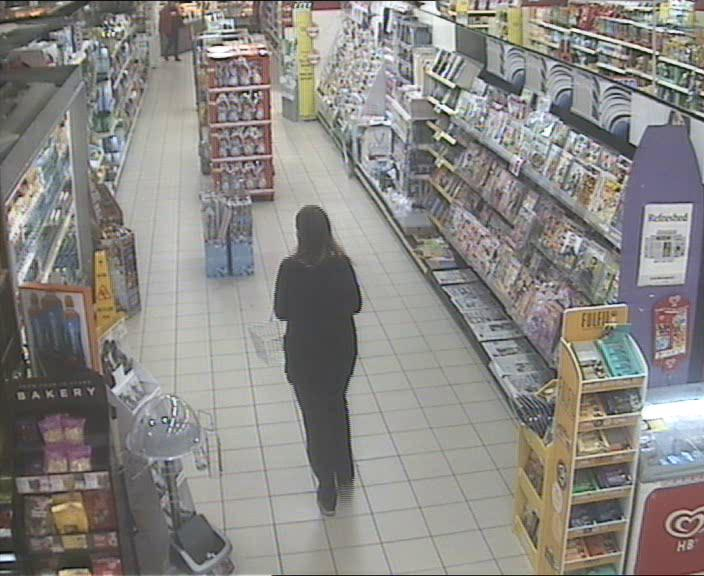empty-basket: (246, 308, 298, 367)
person: (275, 203, 363, 517)
person-with-empty-basket-trolly: (246, 203, 362, 515)
